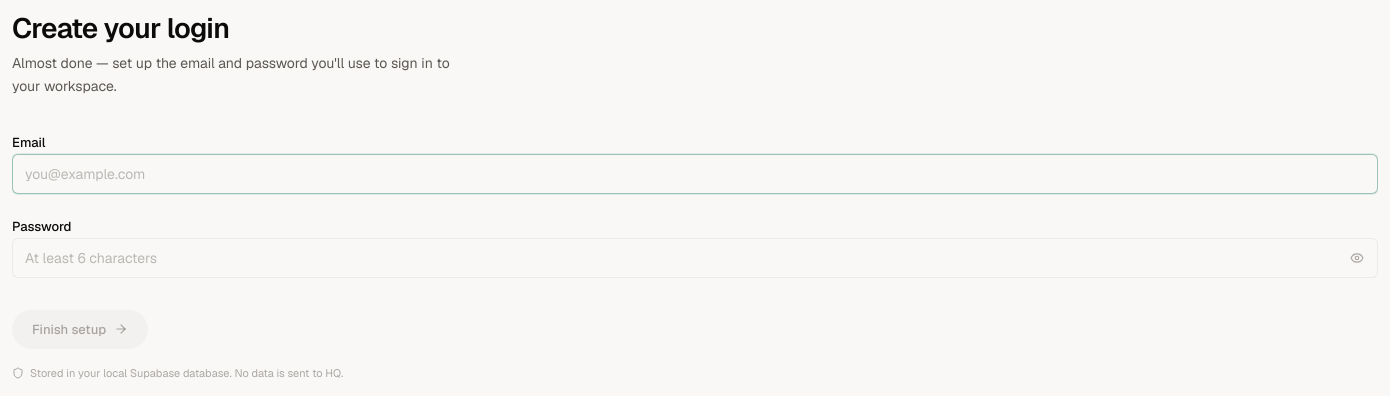
Test: StepAccount › enables submit button with valid email and 6+ char password
Type "test@example.com" into the field labelled "Email" at x=695, y=174, box [12,154,1378,194]
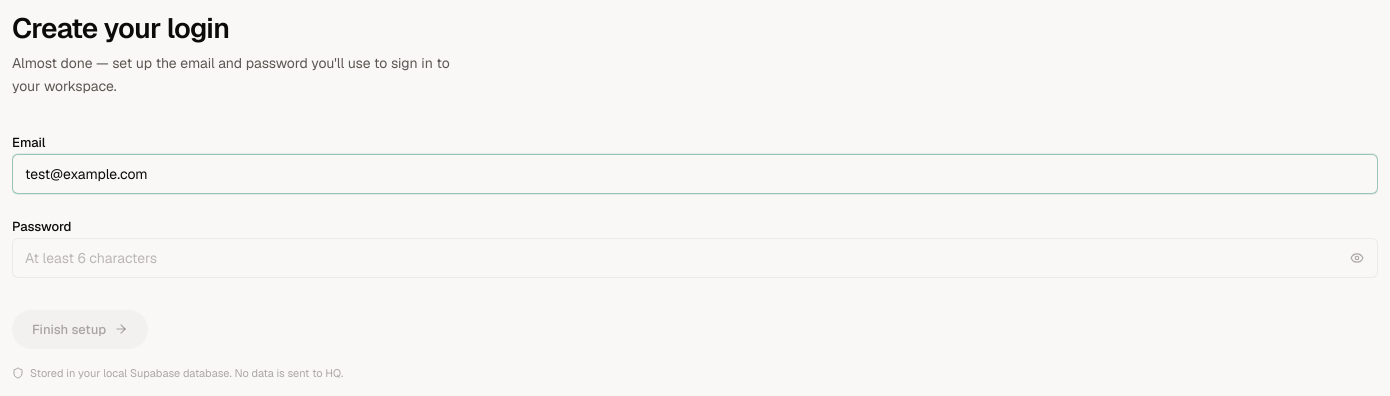
Type "secret123" into the password field labelled "Password" at x=695, y=258, box [12,238,1378,278]
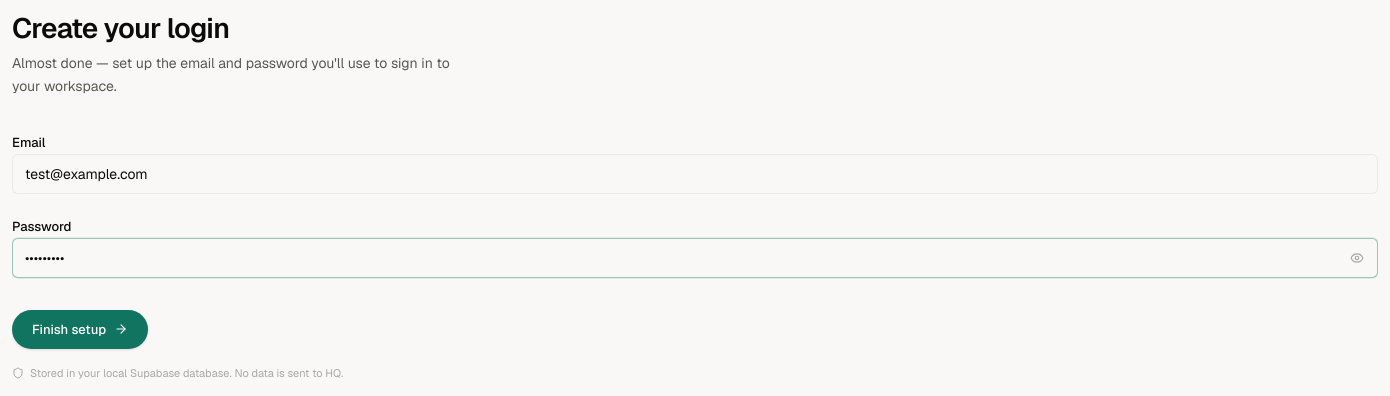
Expected: the button "Finish setup" is enabled, [12,310,148,349]
